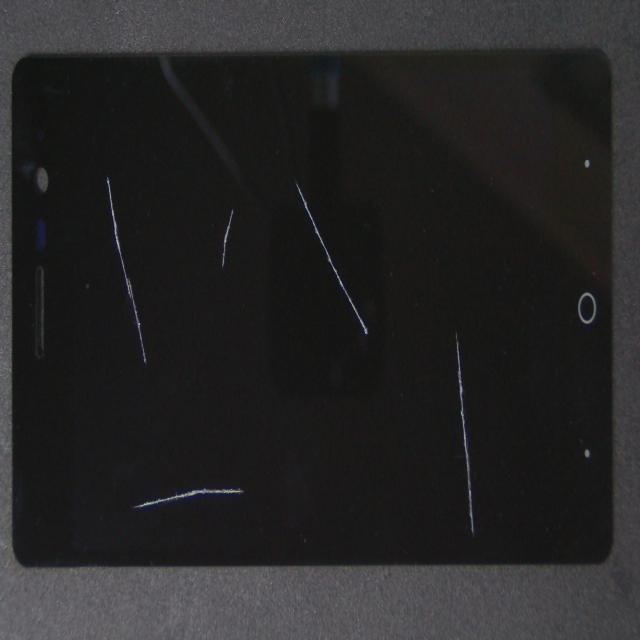scratch: (186, 207, 561, 520), (264, 393, 640, 640), (164, 250, 349, 640), (130, 47, 332, 304), (71, 231, 231, 547)
